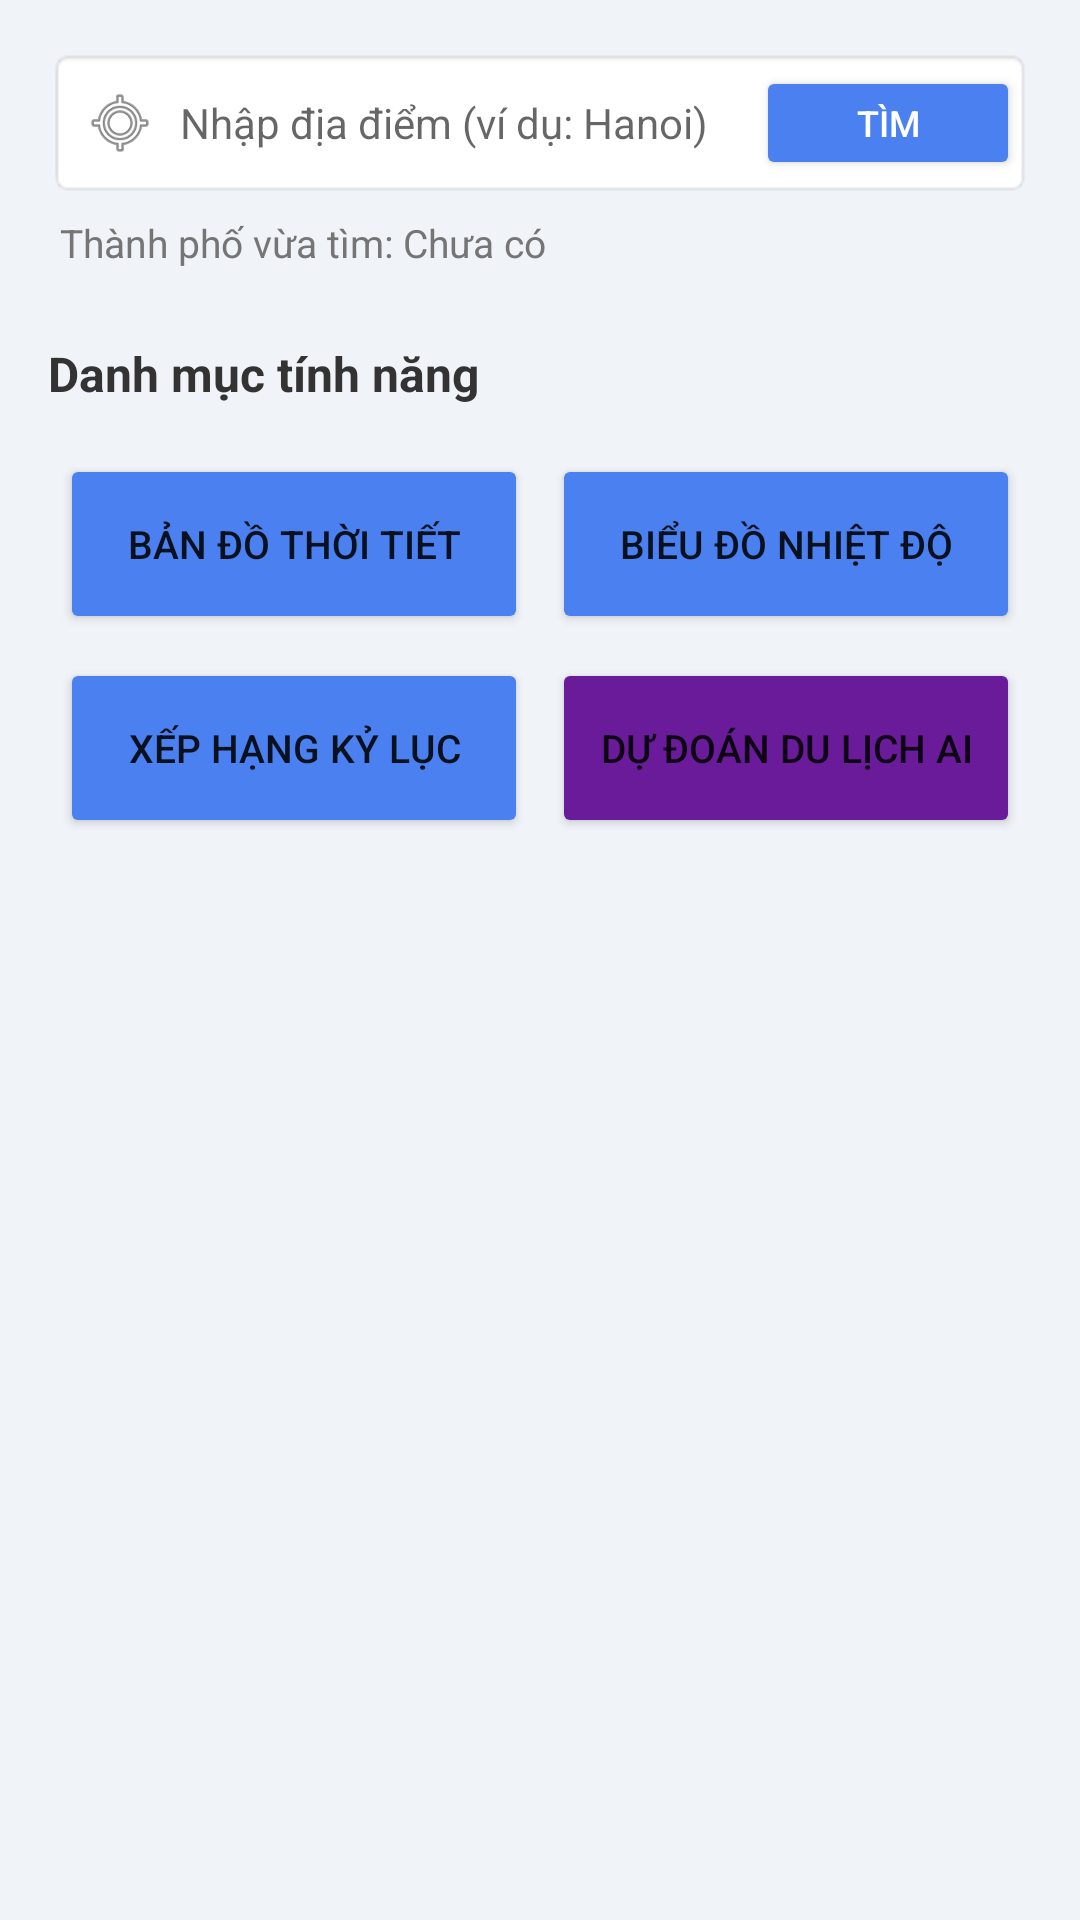

Where icons sit on this 1080 × 1920 app screen, as (x1, y1, x2, y2):
Icon Định Vị: (91, 94, 149, 152)
